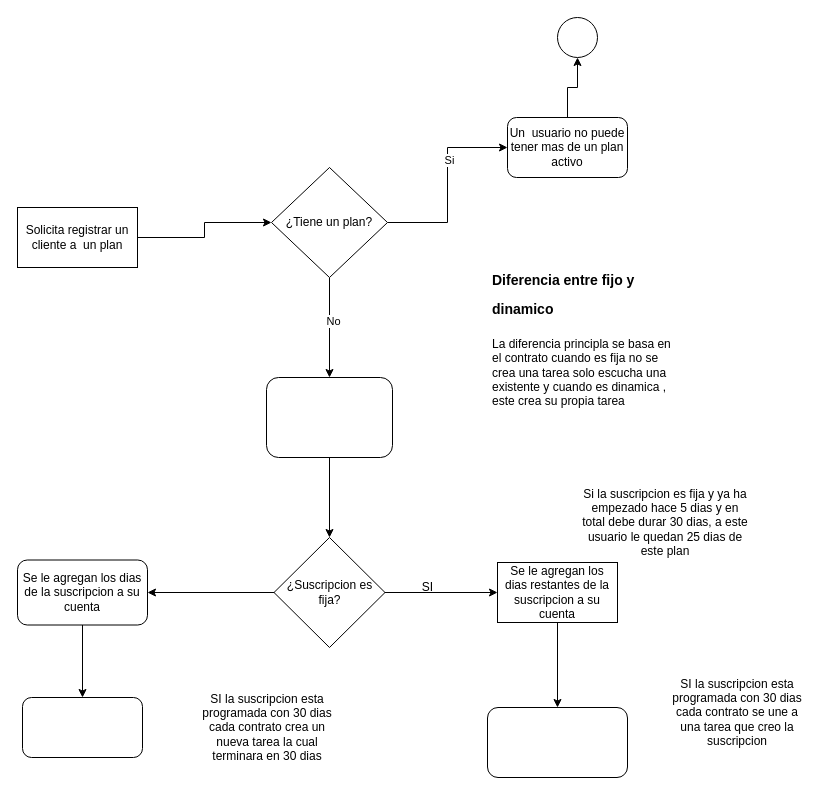
This 825x795 diagram has some shape labels left out. Here are the shapes that lost their labels. From the top down, the centre of each, then its label:
At (x=329, y=417): "Se crea un nuevo contrato entre el usuario y la suscripcion".
At (x=82, y=727): "Su proceso crea una nueva tarea".
At (x=557, y=742): "Su proceso se agrega a un tarea actual".
